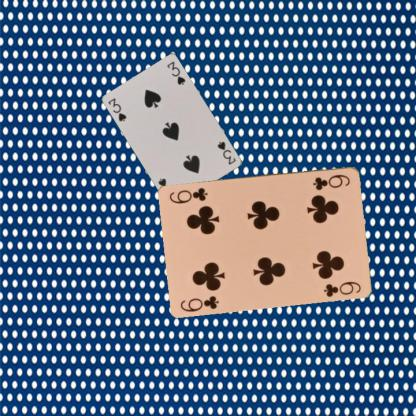3s: (215, 138, 237, 166), (106, 95, 128, 123)
6c: (178, 293, 221, 313), (310, 172, 352, 191)
